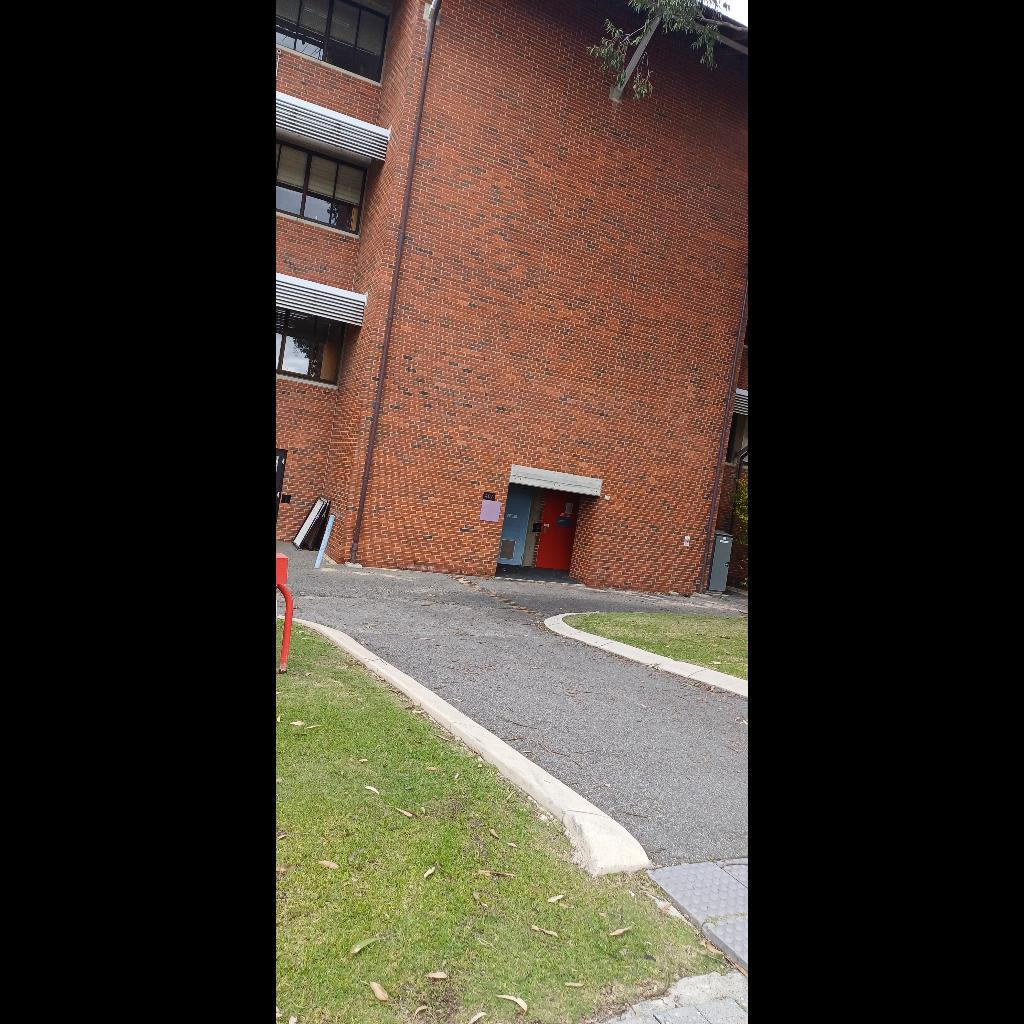BuildingCodes: (484, 492, 494, 500)
